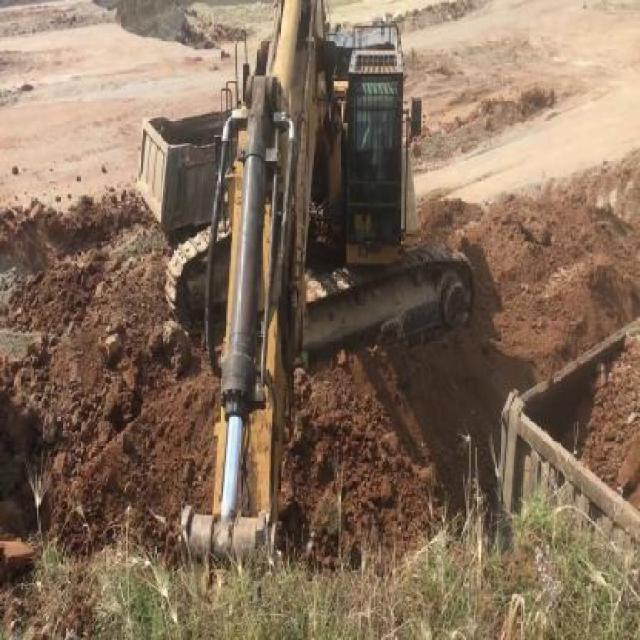Dump Truck: (494, 330, 638, 595), (137, 113, 221, 221)
Excavator: (161, 0, 470, 555)
